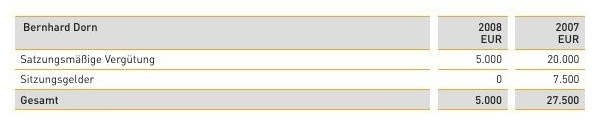table: (0, 0, 598, 123)
